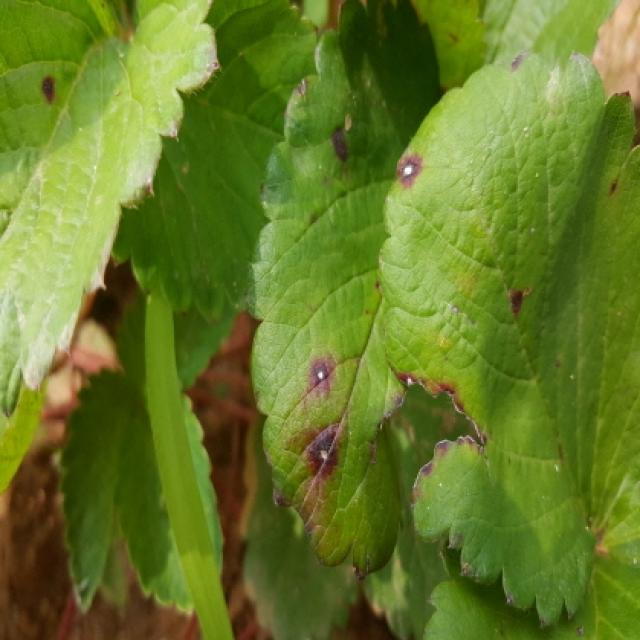Leaf Spot: (376, 49, 638, 630), (248, 0, 445, 581)
